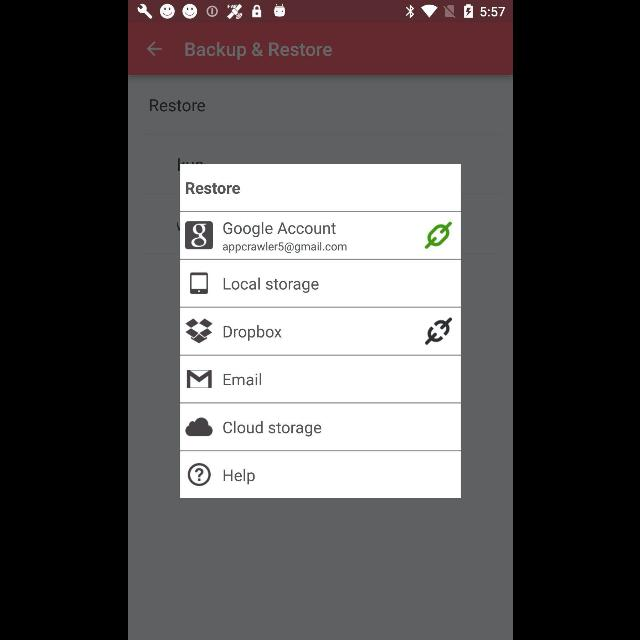icon: (184, 221, 212, 249), (184, 418, 212, 437), (188, 463, 210, 485), (186, 370, 212, 388), (145, 42, 161, 56)
image: (184, 318, 212, 344), (424, 318, 452, 344), (424, 222, 452, 248), (189, 272, 207, 294)
panel: (180, 164, 460, 498)
text: (185, 43, 332, 61), (223, 222, 335, 238), (223, 421, 321, 437), (222, 242, 346, 254), (222, 278, 318, 292), (223, 326, 281, 340), (150, 100, 204, 112), (185, 183, 239, 194), (223, 373, 261, 385), (222, 470, 254, 484)
uppertaskbar: (128, 1, 512, 23)
